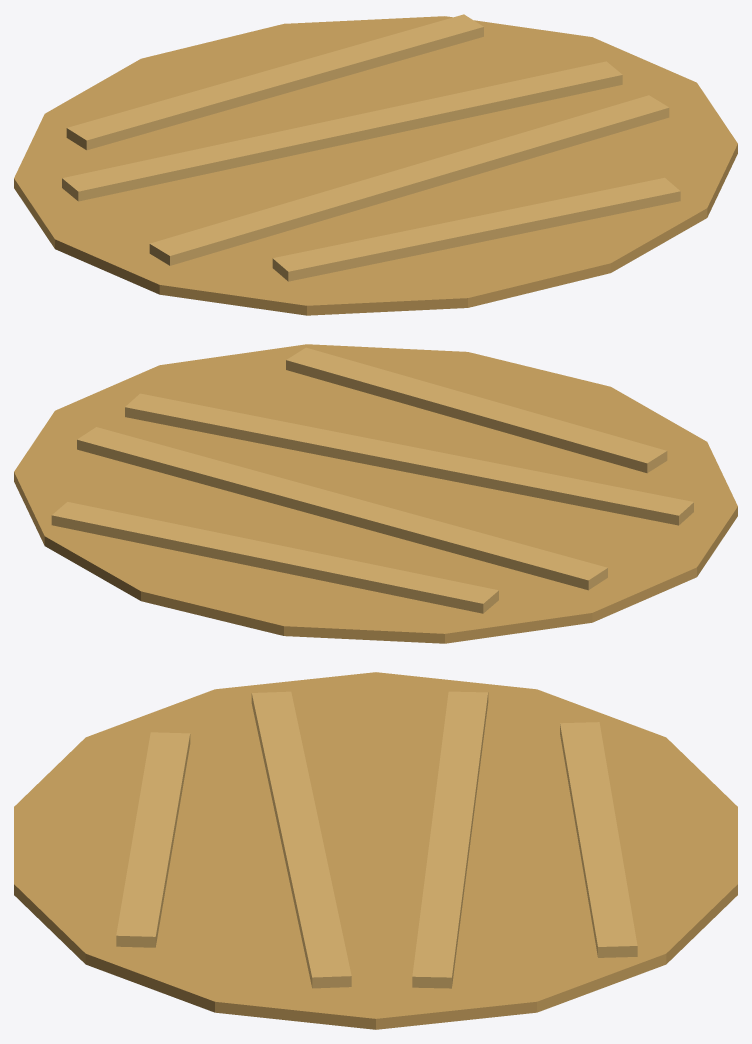
The model's file is env_r5_sand_ripples.glb.
The picture shows the model from 3 angles, top to bottom: view 1: azimuth 30°, elevation 25°; view 2: azimuth 150°, elevation 25°; view 3: azimuth 270°, elevation 25°; orthographic projection. The views are drawn at different scales.
Parts seen in each view (by area): view 1: env_r5_sand_ripples; view 2: env_r5_sand_ripples; view 3: env_r5_sand_ripples.
Boxes of the visible parts, x1=… form: env_r5_sand_ripples: x1=14, y1=14, x2=737, y2=315; env_r5_sand_ripples: x1=14, y1=344, x2=737, y2=643; env_r5_sand_ripples: x1=14, y1=672, x2=737, y2=1029.
Size of the model in its own units: 3.4 by 0.1 by 3.
Materials: 1 (1 with a texture image).
